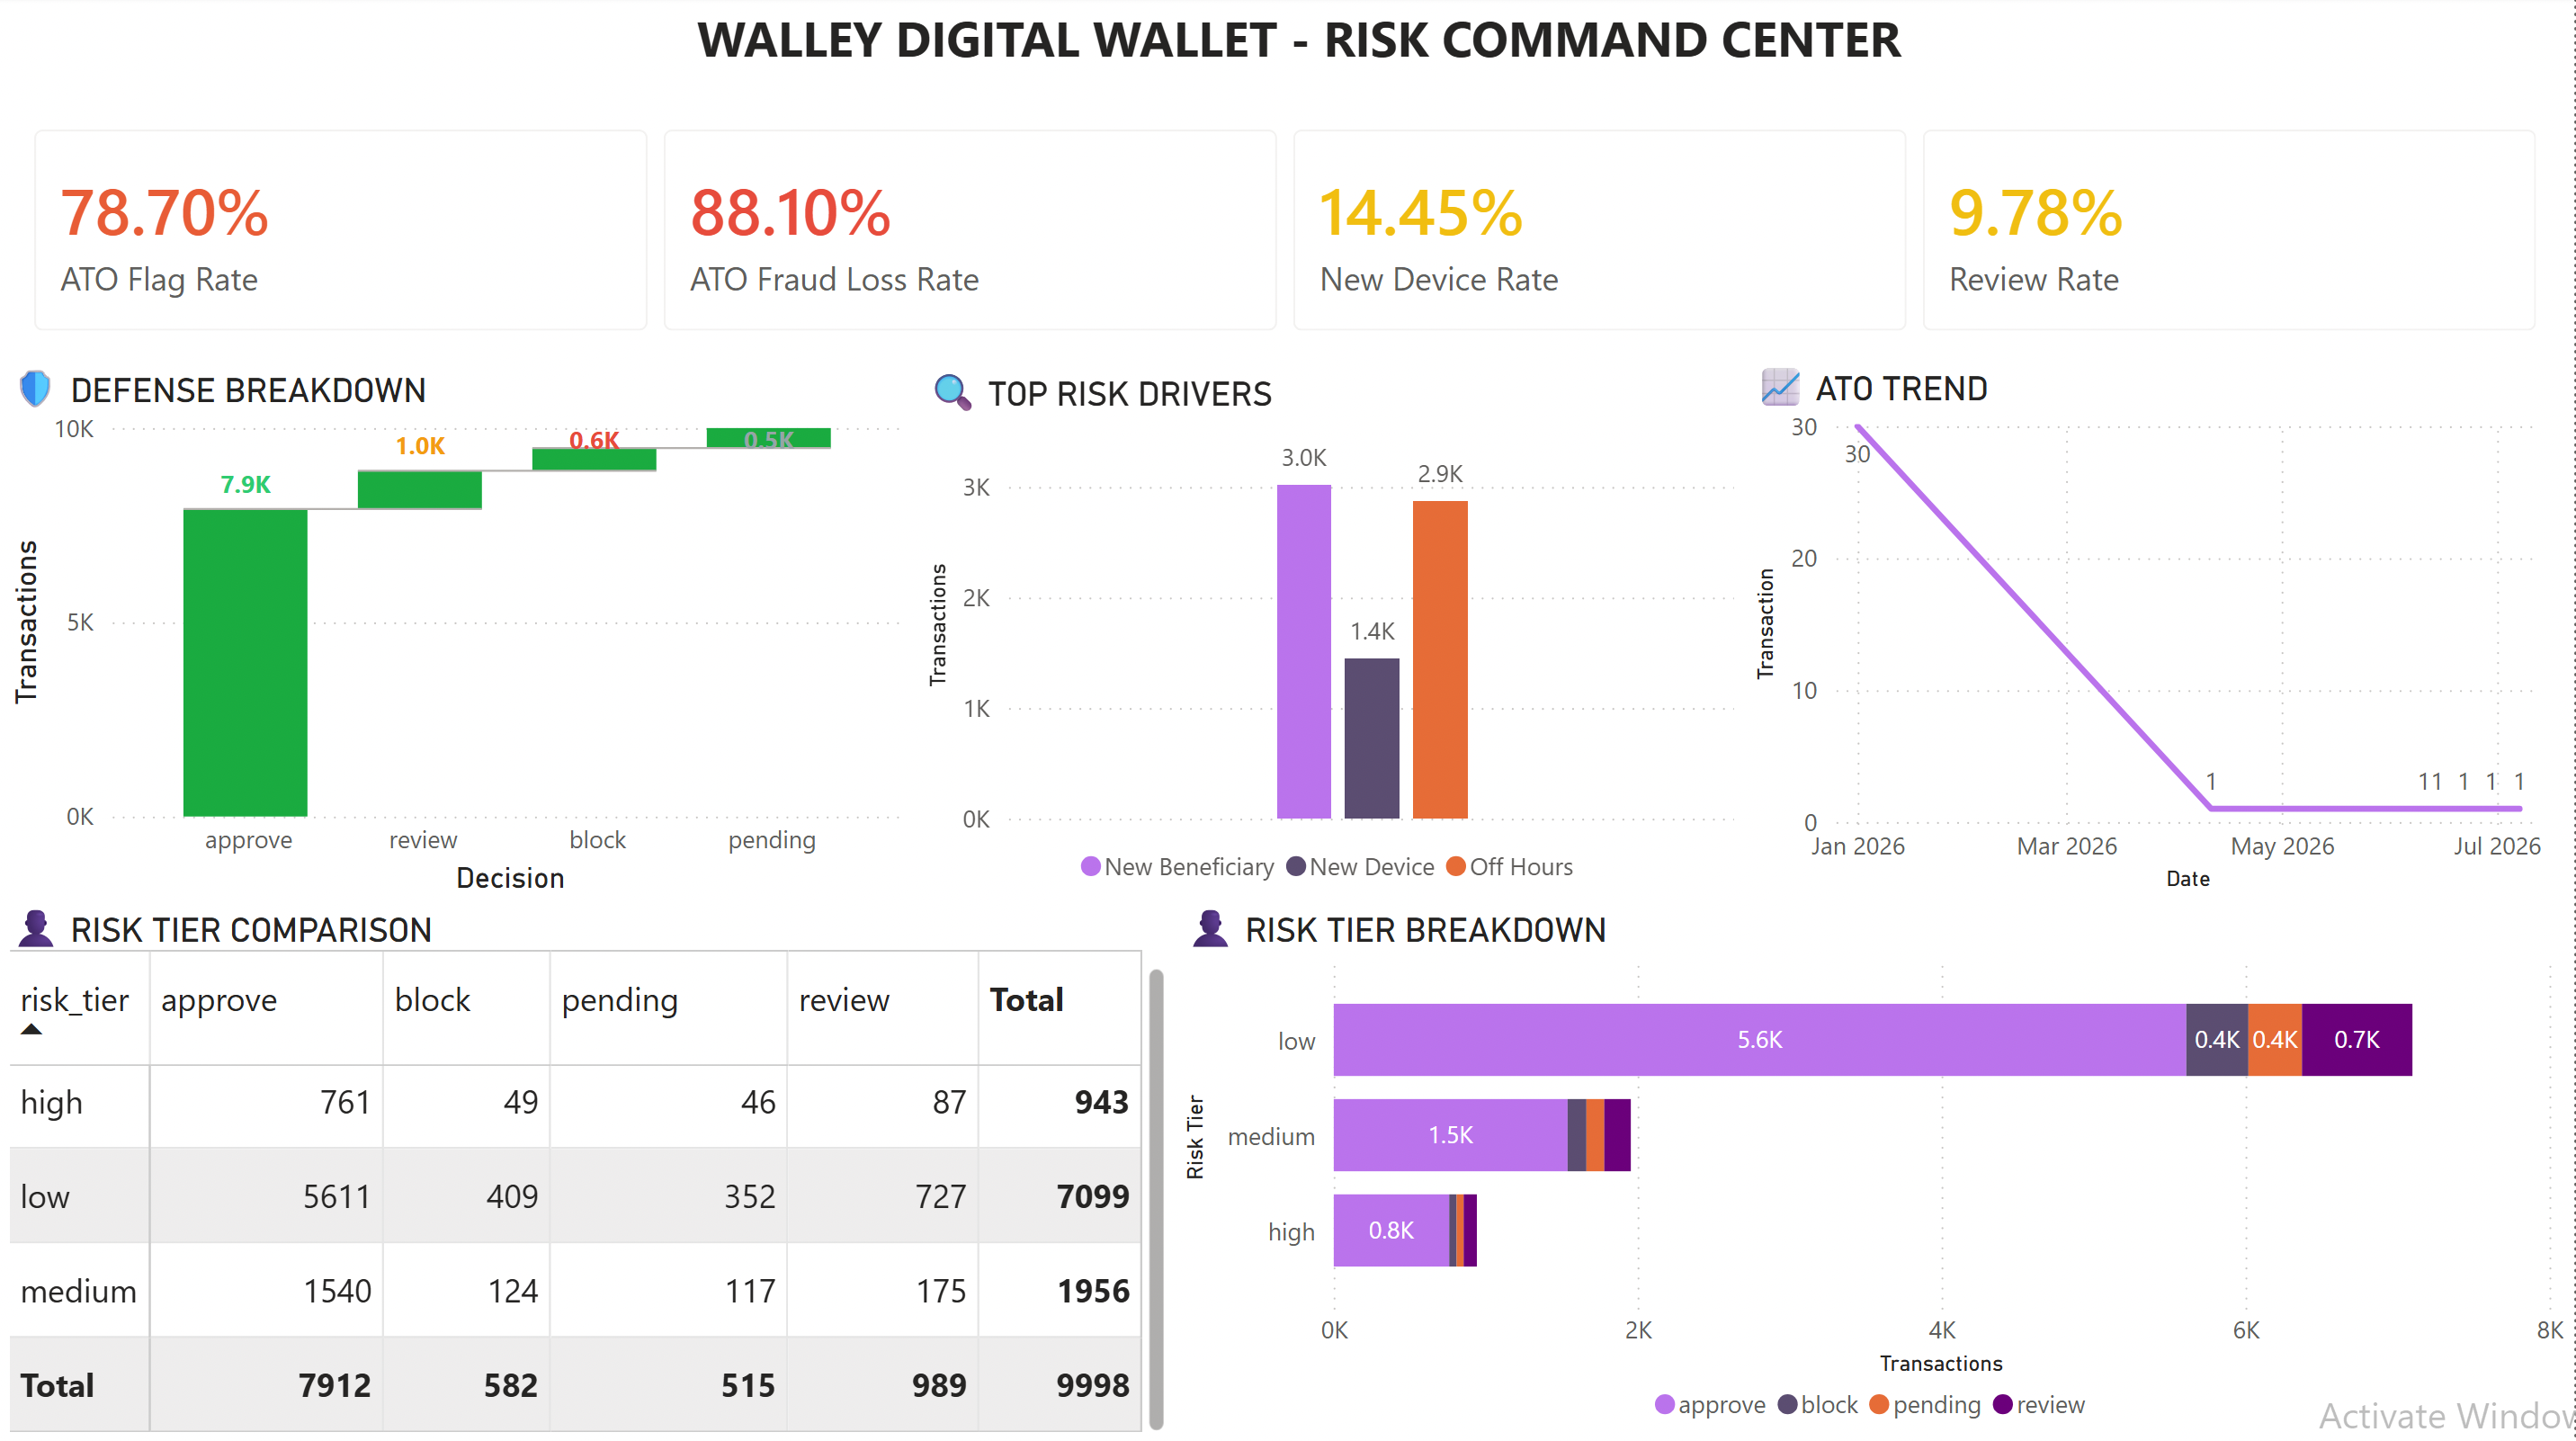

The dashboard page shown, as its layout file describes it:
{"tool":"powerbi","page":{"name":"Walley's ATO Dashboard","canvas":[1280,720],"ordinal":0},"visuals":[{"type":"cardVisual","fields":{"Data":["transactions.ATO Flag Rate (DAX)","transactions.ATO Fraud Loss Rate (DAX)","transactions.New Device Rate","transactions.Review Rate"]},"box":[0,49.8,1280,134.1],"z":0},{"type":"textbox","box":[11.5,0,1268.5,49.8],"z":1},{"type":"waterfallChart","title":"🛡️ DEFENSE BREAKDOWN","fields":{"Category":["transactions.final_decision"],"Y":["CountNonNull(transactions.transaction_id)"]},"box":[0,182,456.2,269.7],"z":2},{"type":"barChart","title":"👤 RISK TIER BREAKDOWN","fields":{"Category":["users.risk_tier"],"Y":["CountNonNull(transactions.transaction_id)"],"Series":["transactions.final_decision"]},"box":[584.3,450.6,695.5,268.5],"z":4},{"type":"lineChart","title":"📈 ATO TREND","fields":{"Category":["transactions.timestamp"],"Y":["CountNonNull(transactions.transaction_id)"]},"box":[867.8,181.8,412.2,268.8],"z":5},{"type":"pivotTable","title":"👤 RISK TIER COMPARISON","fields":{"Rows":["users.risk_tier"],"Columns":["transactions.final_decision"],"Values":["CountNonNull(transactions.transaction_id)"]},"box":[0,450.6,584.3,268.5],"z":6},{"type":"clusteredColumnChart","title":"🔍 TOP RISK DRIVERS","fields":{"Y":["transactions.New Beneficiary Count","transactions.New Device Count","transactions.Off Hours Count"]},"box":[456.2,184.3,411.2,267.4],"z":7}]}

Visuals, with their boxes in screenshot pixels (x1, y1, x2, y2), scaled from the page's 1280x720 canvas onto the 2576x1441 screenshot:
cardVisual - transactions.ATO Flag Rate (DAX) x transactions.ATO Fraud Loss Rate (DAX): BBox(0, 100, 2575, 368)
textbox: BBox(23, 0, 2575, 100)
"🛡️ DEFENSE BREAKDOWN" waterfallChart: BBox(0, 364, 918, 904)
"👤 RISK TIER BREAKDOWN" barChart: BBox(1176, 902, 2575, 1439)
"📈 ATO TREND" lineChart: BBox(1747, 364, 2575, 902)
"👤 RISK TIER COMPARISON" pivotTable: BBox(0, 902, 1176, 1439)
"🔍 TOP RISK DRIVERS" clusteredColumnChart: BBox(918, 369, 1746, 904)
